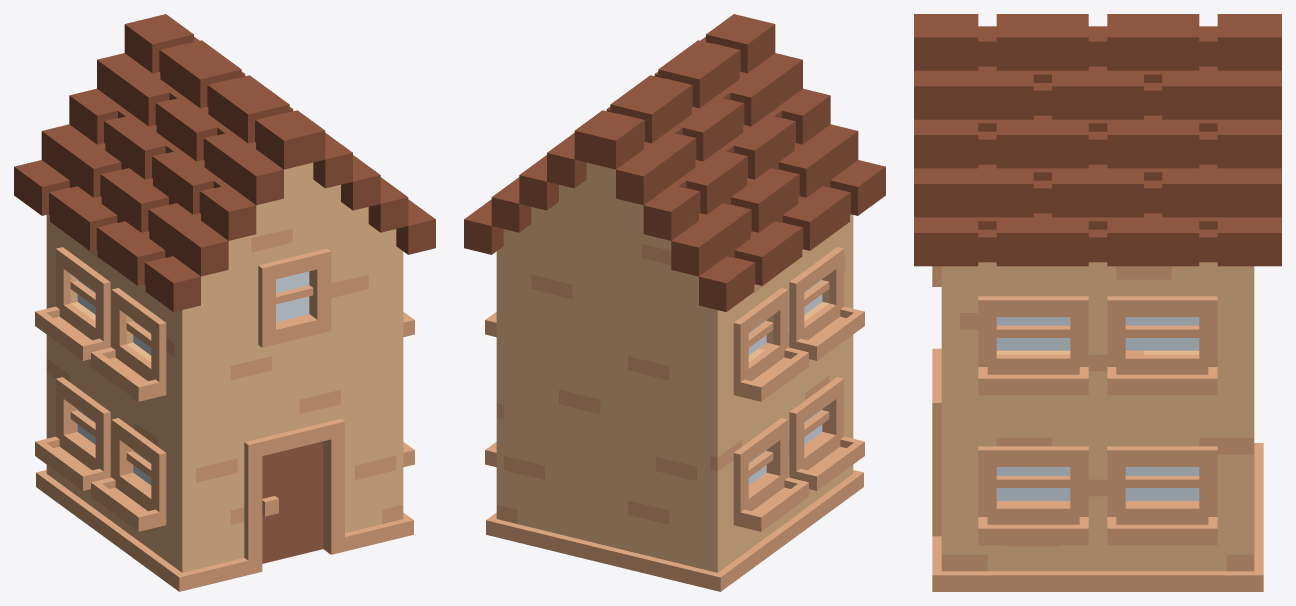
File: village_building_3.glb
3 views of the same model, side by side, from view 1: azimuth 30°, elevation 25°; view 2: azimuth 150°, elevation 25°; view 3: azimuth 270°, elevation 25° (orthographic). The views are drawn at different scales.
Parts seen in each view (by area): view 1: village_building_3; view 2: village_building_3; view 3: village_building_3.
Boxes of the visible parts, <box> form: village_building_3: <box>14,14,435,591</box>; village_building_3: <box>464,14,885,591</box>; village_building_3: <box>914,14,1281,591</box>.
Bounding box in the file's own units: 4 × 6 × 4.
Materials: 1 (1 with a texture image).
